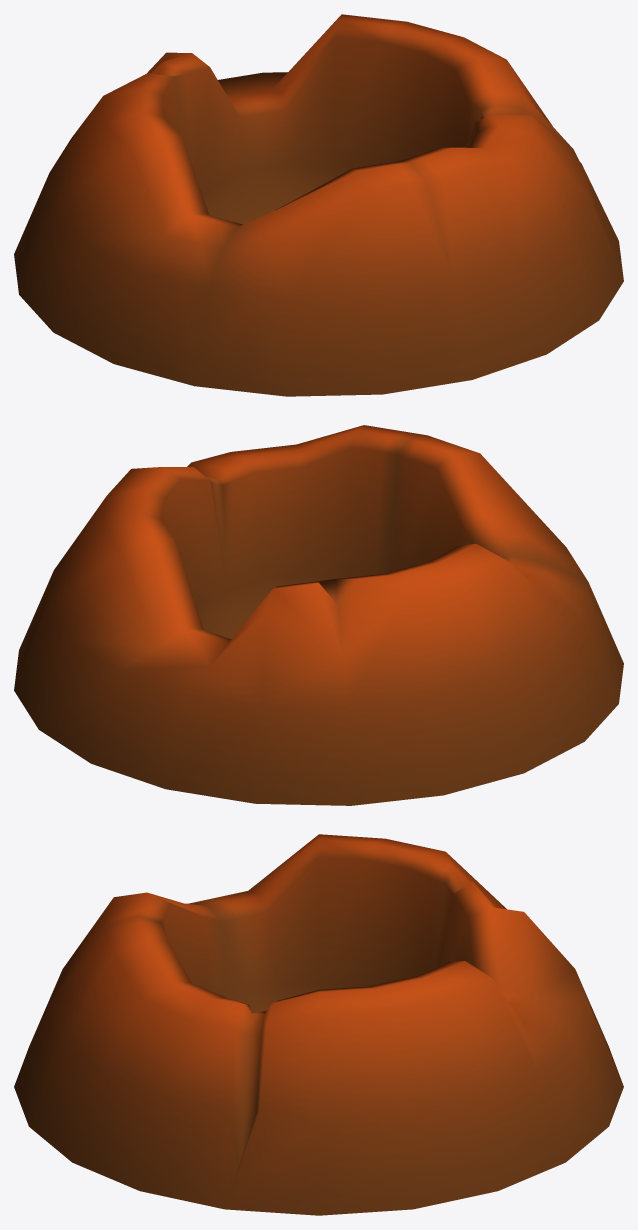
File: Prop_Lava_Geyser.fbx
3 views of the same model, one above another, from view 1: azimuth 30°, elevation 25°; view 2: azimuth 150°, elevation 25°; view 3: azimuth 270°, elevation 25° (orthographic).
Visible parts, largest first — view 1: Prop_Lava_Geyser; view 2: Prop_Lava_Geyser; view 3: Prop_Lava_Geyser.
Boxes of the visible parts, x1,y1,x2,y2 form: Prop_Lava_Geyser: (14,14,623,396); Prop_Lava_Geyser: (14,425,623,805); Prop_Lava_Geyser: (14,834,623,1215).
Size of the model in its own units: 439 by 153 by 439.
1 material, 1 textured.
